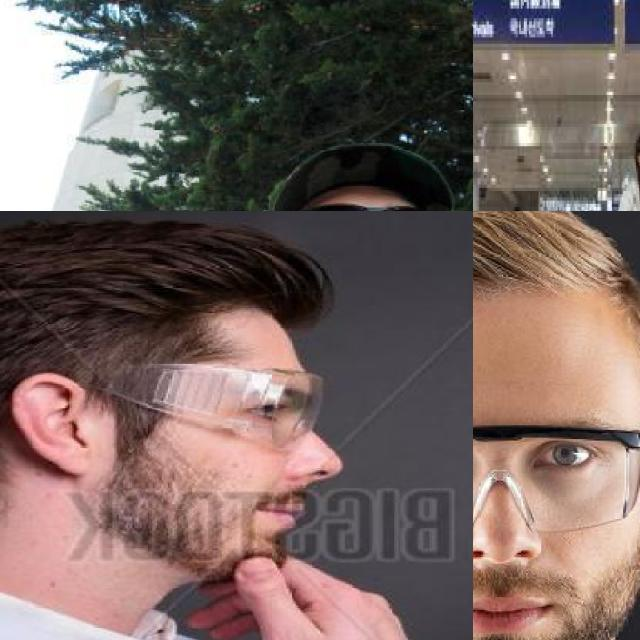No_Ear-Protection: (6, 364, 95, 483)
face_nomask: (473, 425, 606, 640), (236, 367, 342, 552)
glasses: (0, 364, 331, 440), (473, 420, 640, 537)
hand_noglove: (177, 556, 456, 640)
head_nohelmet: (0, 214, 325, 351), (473, 211, 640, 350), (261, 145, 452, 211)
person: (0, 214, 434, 640), (0, 167, 473, 211)
